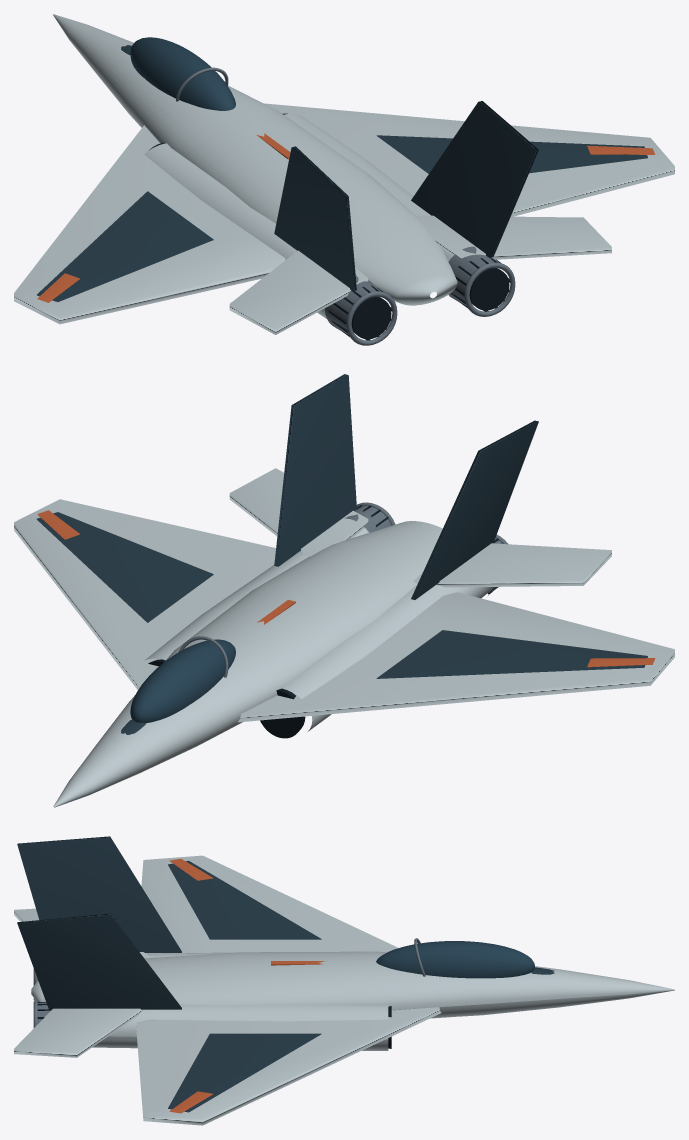
The model's file is player-vector-hero-v1.glb.
3 renders of one model, top to bottom at view 1: azimuth 30°, elevation 25°; view 2: azimuth 150°, elevation 25°; view 3: azimuth 270°, elevation 25°, orthographic. The views are drawn at different scales.
Visible parts, largest first — view 1: hull, trim, canopy, metal, dark, accent; view 2: hull, trim, canopy, accent, metal, dark; view 3: hull, trim, canopy, accent, metal.
Part boxes in pixels (bbox=[...]): hull: bbox=[14, 14, 674, 334]; trim: bbox=[37, 45, 647, 301]; canopy: bbox=[130, 37, 235, 110]; metal: bbox=[176, 67, 515, 345]; dark: bbox=[149, 113, 510, 340]; accent: bbox=[37, 133, 655, 302]; hull: bbox=[14, 468, 674, 807]; trim: bbox=[36, 374, 647, 734]; canopy: bbox=[130, 639, 235, 723]; accent: bbox=[37, 510, 655, 667]; metal: bbox=[179, 502, 508, 677]; dark: bbox=[148, 505, 498, 738]; hull: bbox=[14, 855, 674, 1125]; trim: bbox=[17, 836, 554, 1112]; canopy: bbox=[376, 941, 534, 978]; accent: bbox=[169, 859, 325, 1113]; metal: bbox=[33, 938, 425, 1027].
Size of the model in its own units: 17.8 by 4.66 by 18.9.
